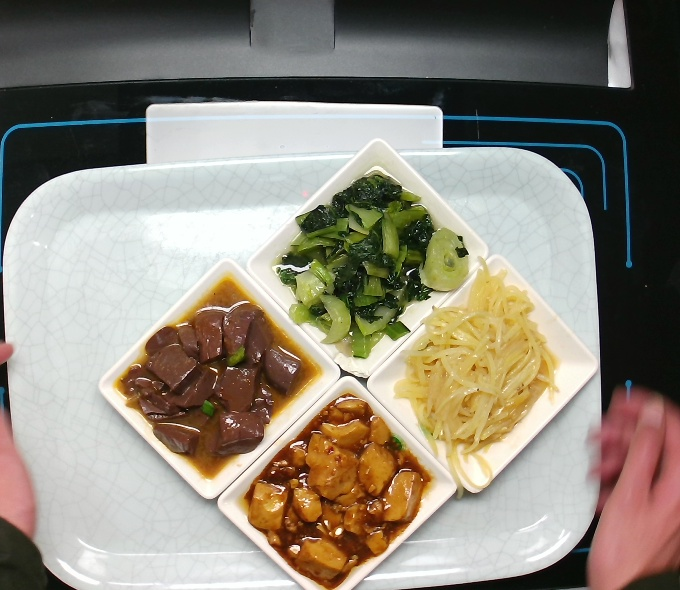wcq-MaPoDouFu: (237, 402, 437, 584)
wcq-NiuXue: (126, 297, 297, 464)
wcq-TuDouSi: (402, 279, 562, 471)
wcq-YouDongCai: (277, 173, 463, 359)
